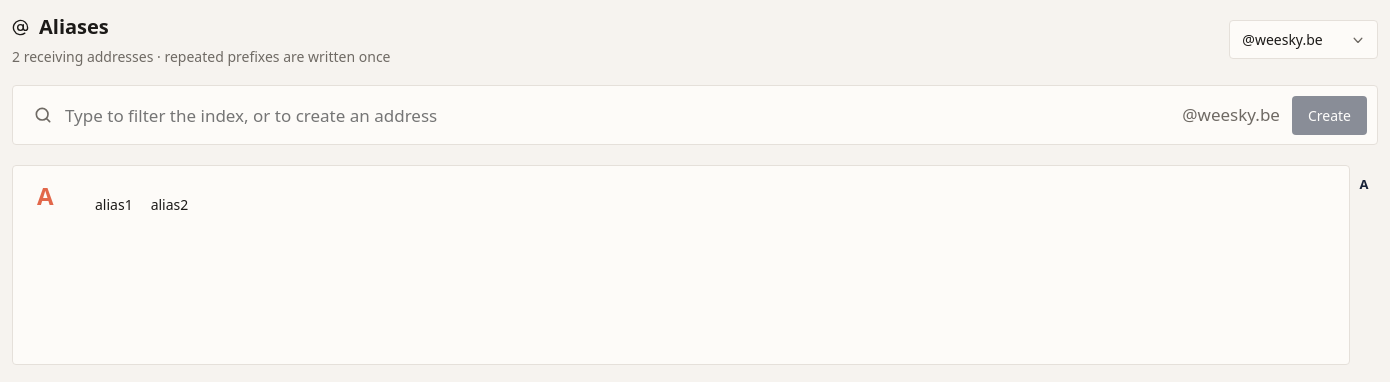
AliasesPage › changes the selected domain in the domain toolbar
What coordinates should you click on to do the following:
click the dropdown named "Domain"
I would click on:
 (1304, 40)
Its box is [1229,20,1378,59].
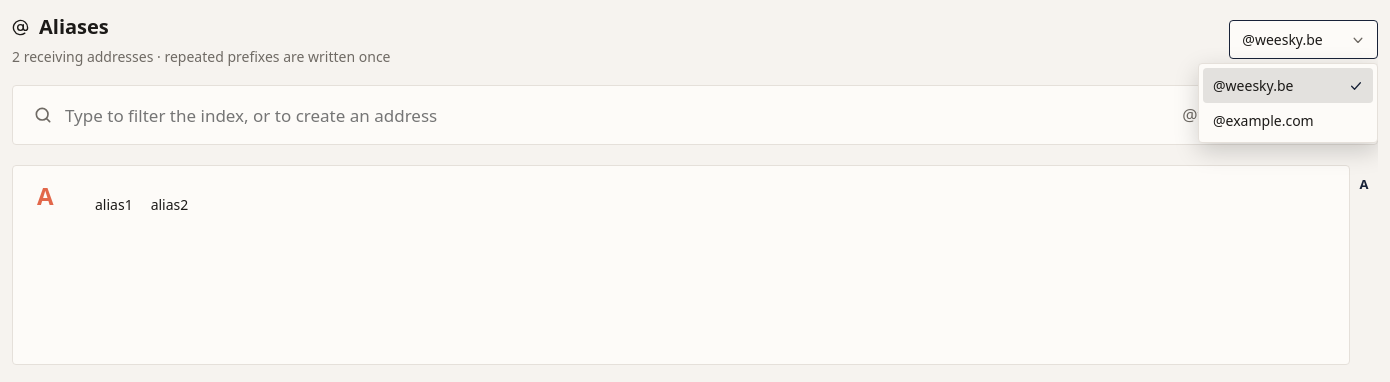
What coordinates should you click on to do the following:
click the option "@example.com"
I would click on:
 (1263, 120)
Its box is [1213,111,1314,130].
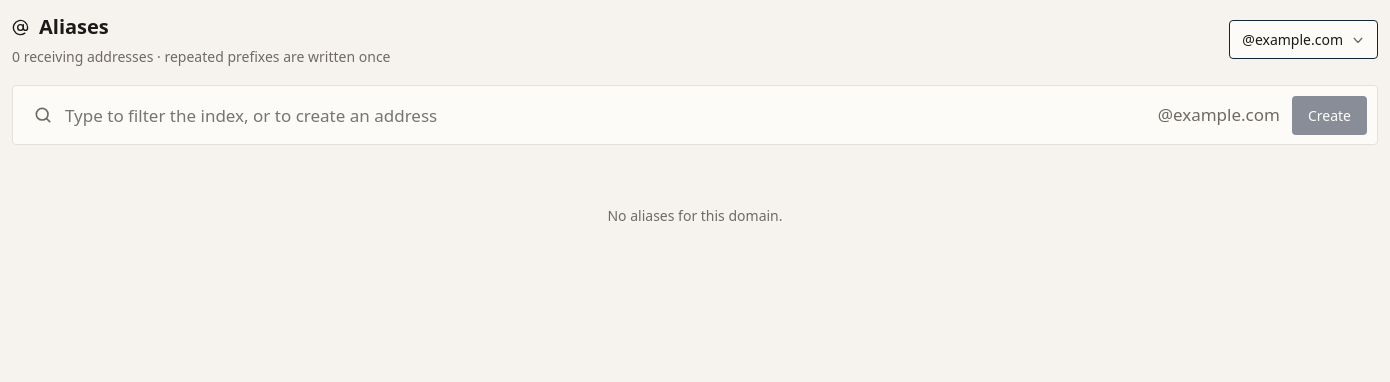
Now the dropdown named "Domain" reads "@example.com", box [1229,20,1378,59]
Now the 2nd text "@example.com" is shown, box [1158,102,1280,128]
